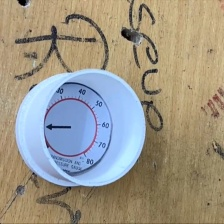gauge: (44, 83, 113, 175)
